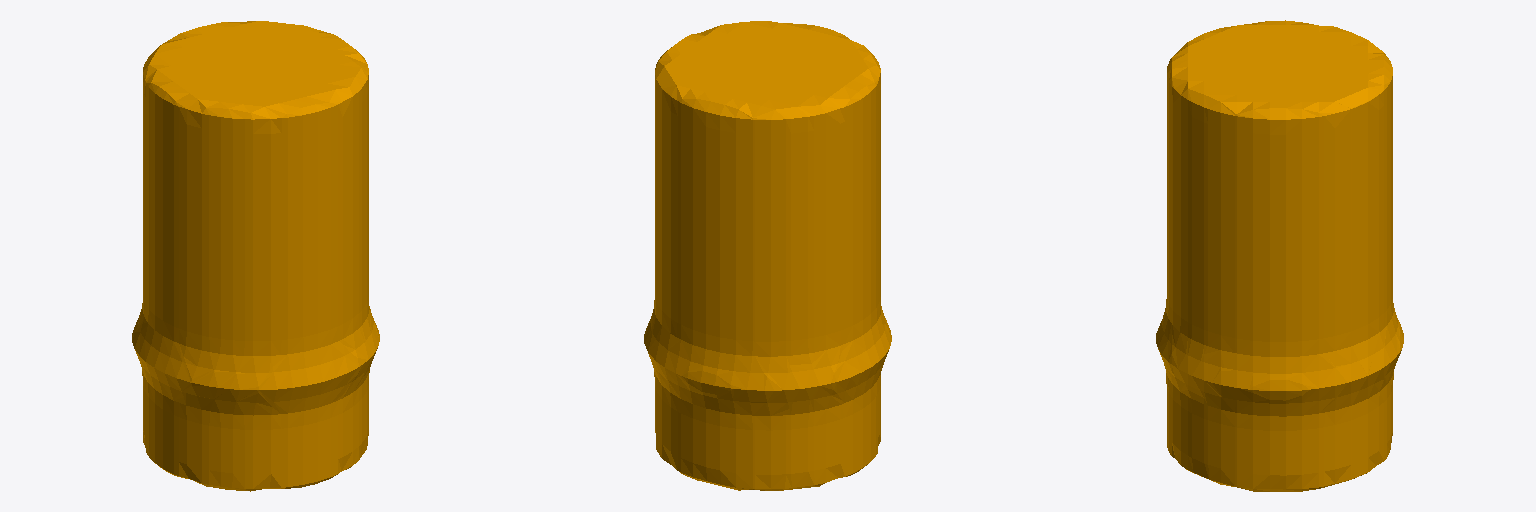
URDF robot description (cylinder_../../meshes/cylinders/cylinder_51.stl):
<?xml version="1.0" encoding="utf-8"?>  <robot name="cylinder_../../meshes/cylinders/cylinder_51.stl">   <link name="cylinder_../../meshes/cylinders/cylinder_51.stl">     <visual>       <geometry>         <mesh filename="../meshes/cylinders/cylinder_51.stl" scale="1 1 1"/>       </geometry>     </visual>     <collision>       <geometry>         <mesh filename="../meshes/cylinders/cylinder_51.stl" scale="1 1 1"/>       </geometry>     </collision>     <inertial>        <origin         xyz="0 0 0"         rpy="0 0 0" />       <mass value="0.4928127177747319"/>       <origin rpy="0 0 0" xyz="0 0 0"/>       <inertia ixx="0.0008273307975796353" ixy="1.0443363598120032e-08" ixz="-4.909985586641948e-08" iyy="0.0008273307278366452" iyz="-5.981309414457392e-08" izz="0.00029971392193333285"/>     </inertial>   </link>  </robot>

--- Facts derived from the render (not from the file) ---
The picture shows the robot from 3 angles, left to right: view 1: azimuth 30°, elevation 25°; view 2: azimuth 150°, elevation 25°; view 3: azimuth 270°, elevation 25°; orthographic projection.
Model cylinder_../../meshes/cylinders/cylinder_51.stl with 1 links and 0 joints (none), rooted at cylinder_../../meshes/cylinders/cylinder_51.stl, posed all joints at 0.
Links seen in each view (by area): view 1: cylinder_../../meshes/cylinders/cylinder_51.stl; view 2: cylinder_../../meshes/cylinders/cylinder_51.stl; view 3: cylinder_../../meshes/cylinders/cylinder_51.stl.
Link boxes in pixels (bbox=[...]): cylinder_../../meshes/cylinders/cylinder_51.stl: bbox=[132, 21, 379, 491]; cylinder_../../meshes/cylinders/cylinder_51.stl: bbox=[644, 21, 891, 490]; cylinder_../../meshes/cylinders/cylinder_51.stl: bbox=[1156, 20, 1403, 491].
Size in the robot's own frame: 0.076 by 0.076 by 0.1292 metres.
Meshes: 1 distinct files referenced, 1 mesh visuals loaded (1 binary STL).